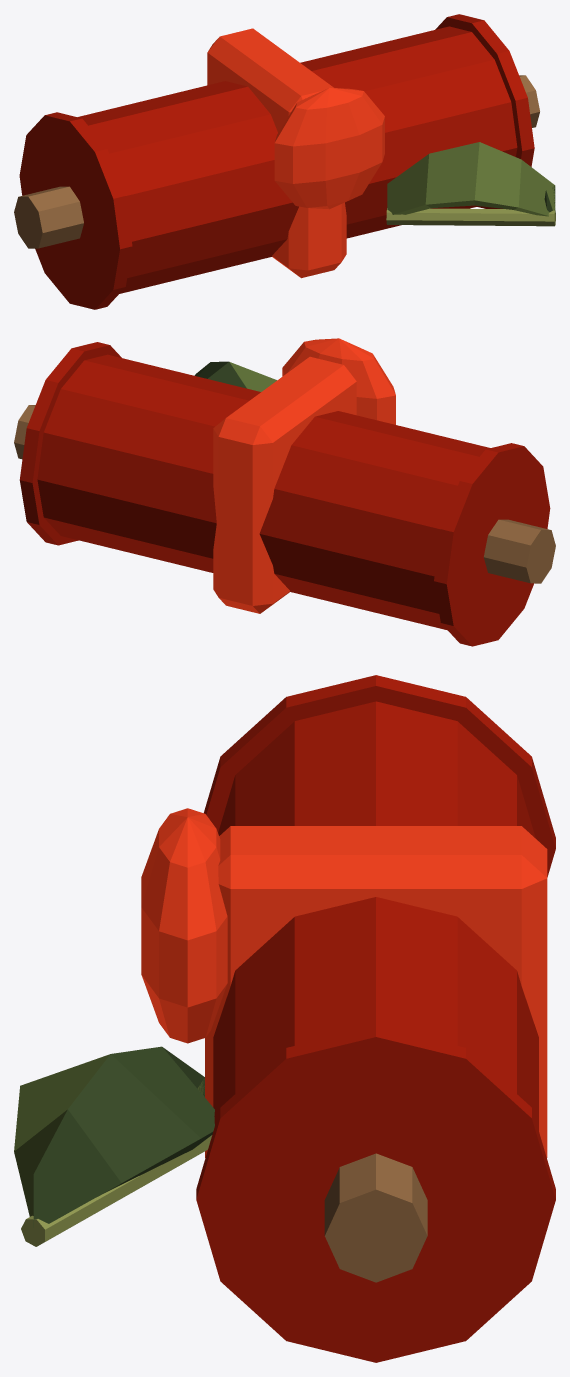
File: healing-scroll.glb
The picture shows the model from 3 angles, top to bottom: view 1: azimuth 30°, elevation 25°; view 2: azimuth 150°, elevation 25°; view 3: azimuth 270°, elevation 25°; orthographic projection. The views are drawn at different scales.
Parts seen in each view (by area): view 1: healing-scroll; view 2: healing-scroll; view 3: healing-scroll.
Part boxes in pixels (left/top/right/bottom): healing-scroll: left=14, top=14, right=555, bottom=309; healing-scroll: left=14, top=338, right=555, bottom=646; healing-scroll: left=14, top=675, right=555, bottom=1362.
Bounding box in the file's own units: 1.2 × 0.47 × 0.6329.
